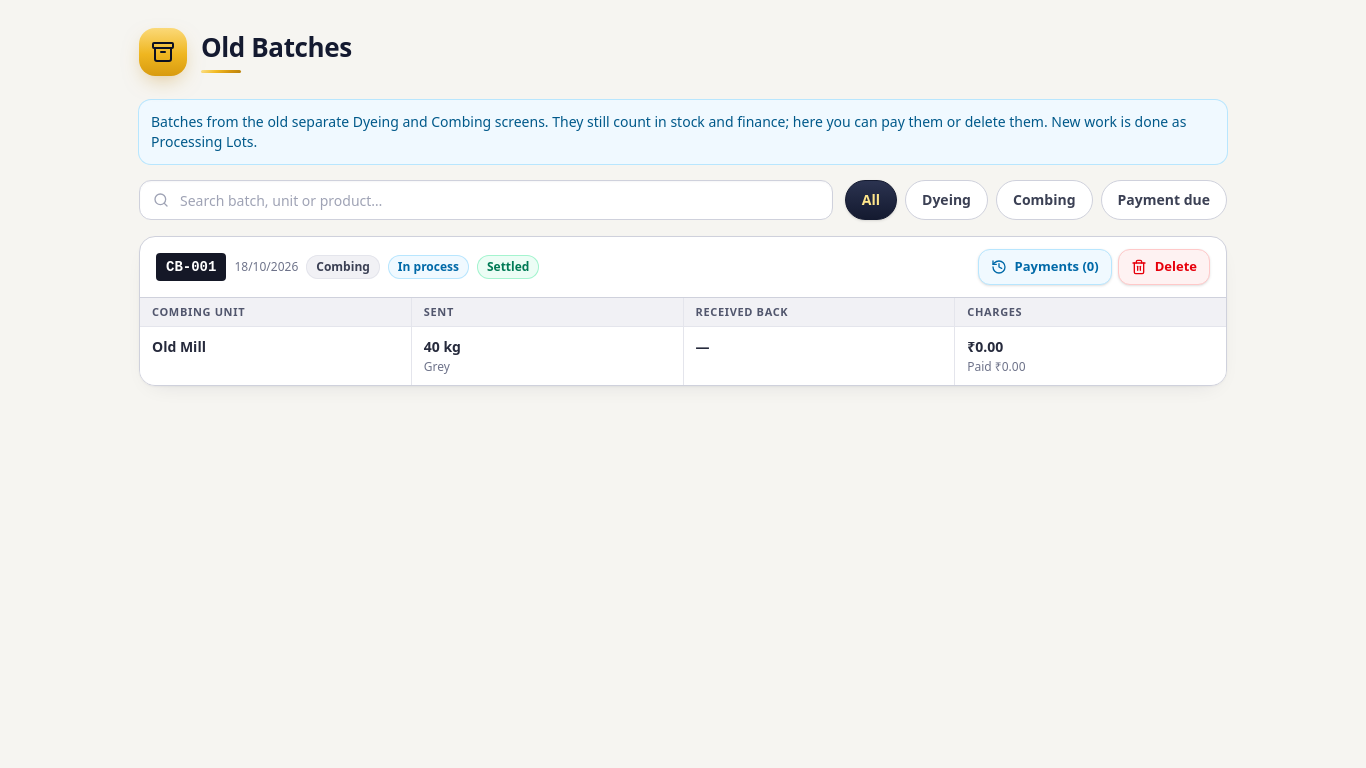
Test: other processing pages render › a combing batch: "Add Payment" from its payment history opens the COMBING pay form
Step 1. Click the button "Payments (0)" → [1045, 267], box [978,249,1112,285]
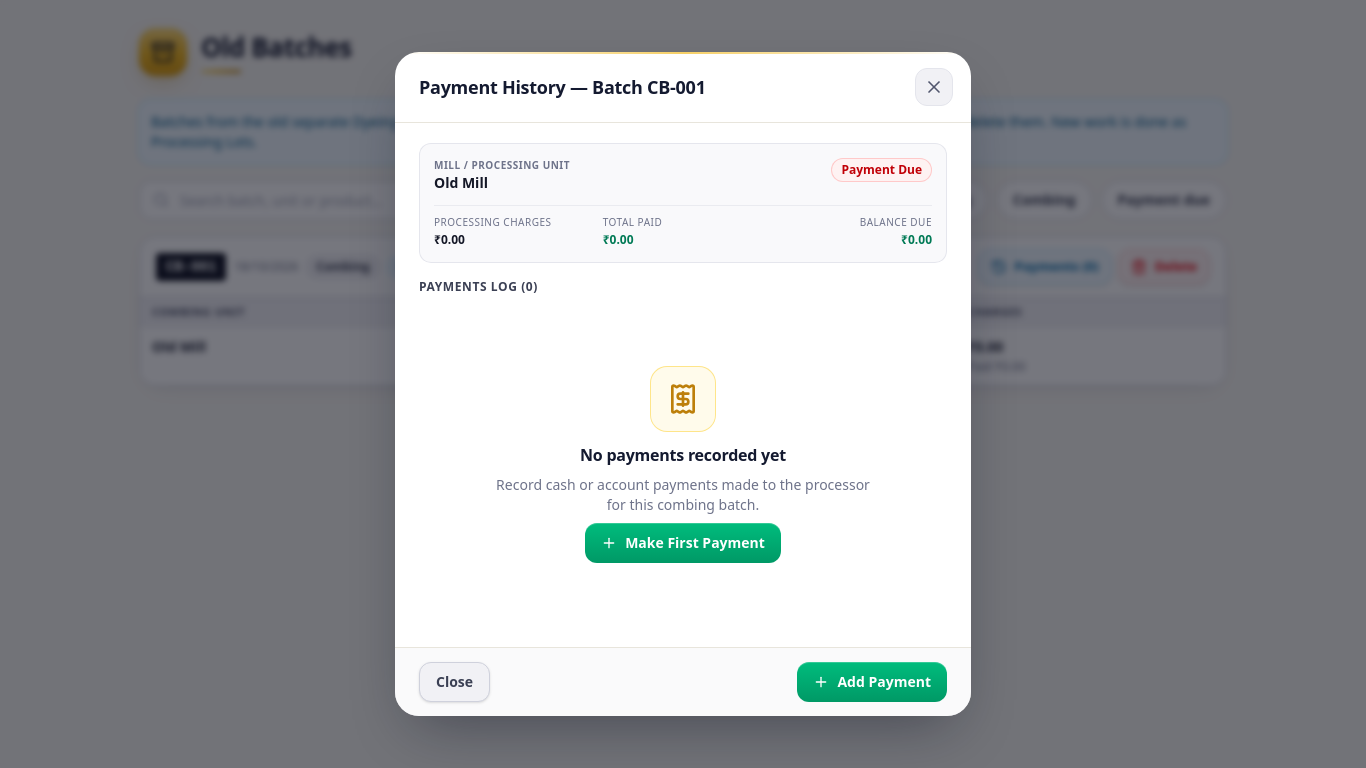
Step 2. Click the button "Make First Payment" → [683, 543], box [585,523,781,563]
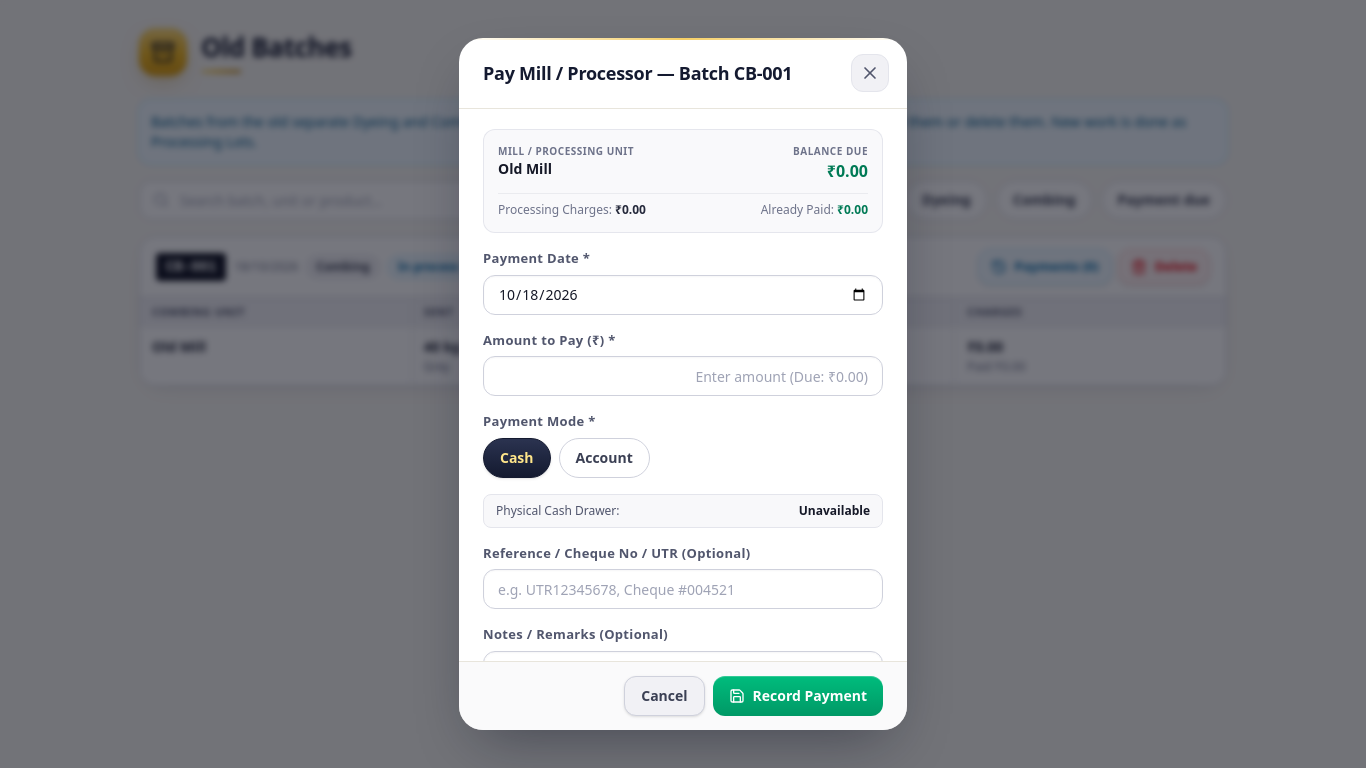
Expected: the heading "Pay Mill / Processor — Batch CB-001" is shown, [483,59,792,87]
